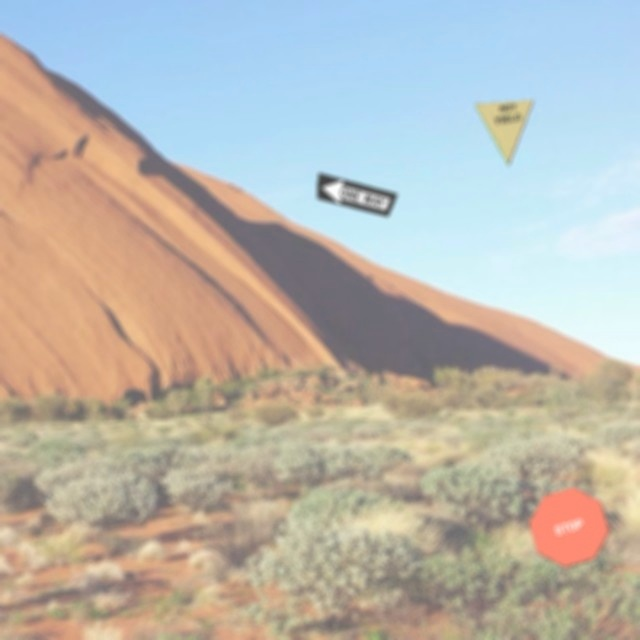NOT_YIELD: (473, 99, 534, 166)
ONE_WAY_ left: (316, 172, 398, 217)
STOP: (528, 486, 610, 568)
